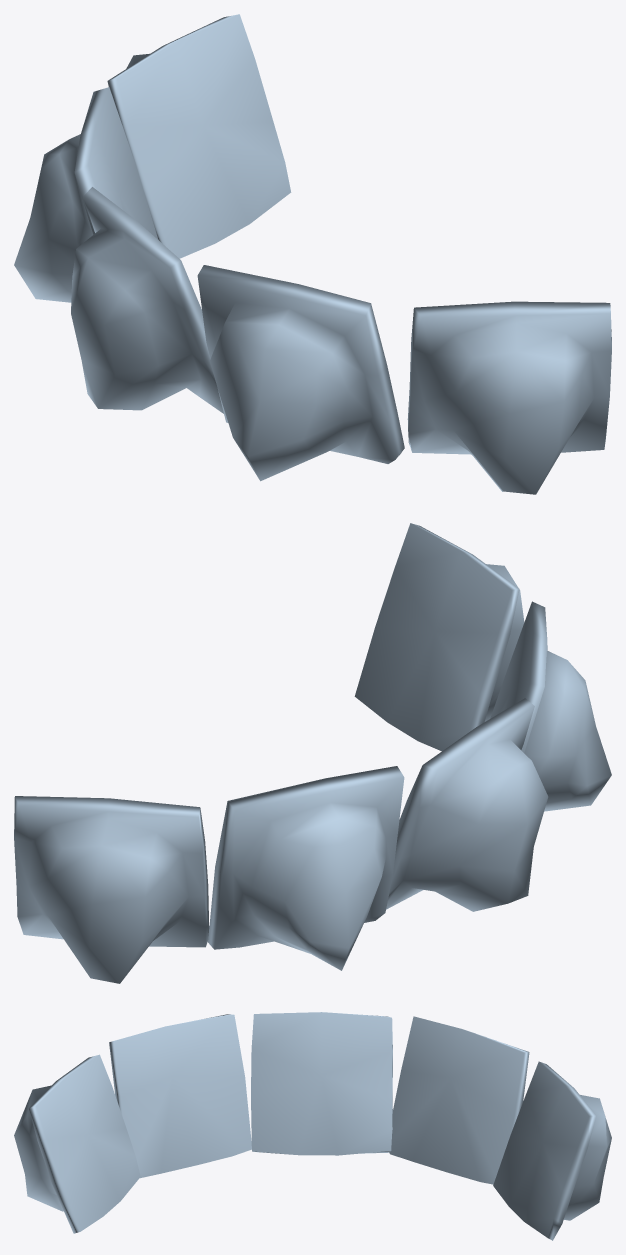
File: Statues_Grp_07B_Lod1.fbx
3 views of the same model, one above another, from view 1: azimuth 30°, elevation 25°; view 2: azimuth 150°, elevation 25°; view 3: azimuth 270°, elevation 25° (orthographic). The views are drawn at different scales.
Visible parts, largest first — view 1: Statues_Grp_07B_Lod1; view 2: Statues_Grp_07B_Lod1; view 3: Statues_Grp_07B_Lod1.
Boxes of the visible parts, <box> form: Statues_Grp_07B_Lod1: <box>14,14,611,494</box>; Statues_Grp_07B_Lod1: <box>14,523,611,983</box>; Statues_Grp_07B_Lod1: <box>14,1012,611,1240</box>.
Size of the model in its own units: 121 by 59.36 by 236.
